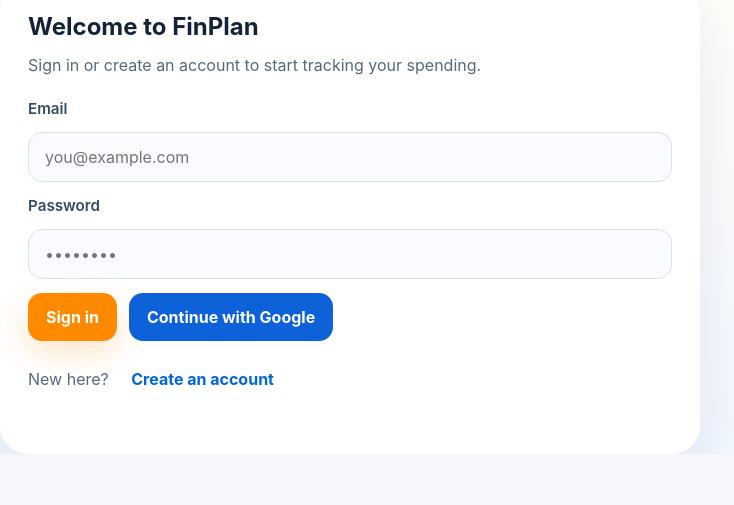
Scenario: AuthPage › shows formatted error messages from firebase codes
This screenshot has width=734, height=505.
Type "a@b.com" into the field labelled "Email".
click(350, 157); type("a@b.com")  # box [28,132,672,182]
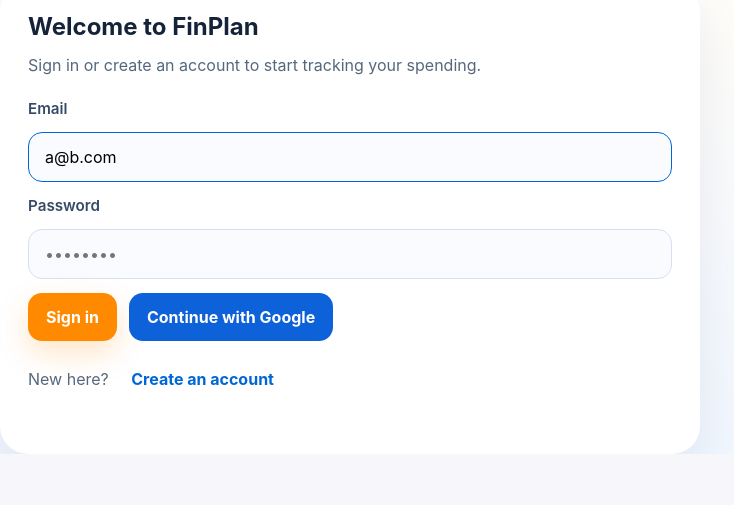
Type "bad" into the password field labelled "Password".
click(350, 254); type("bad")  # box [28,229,672,279]
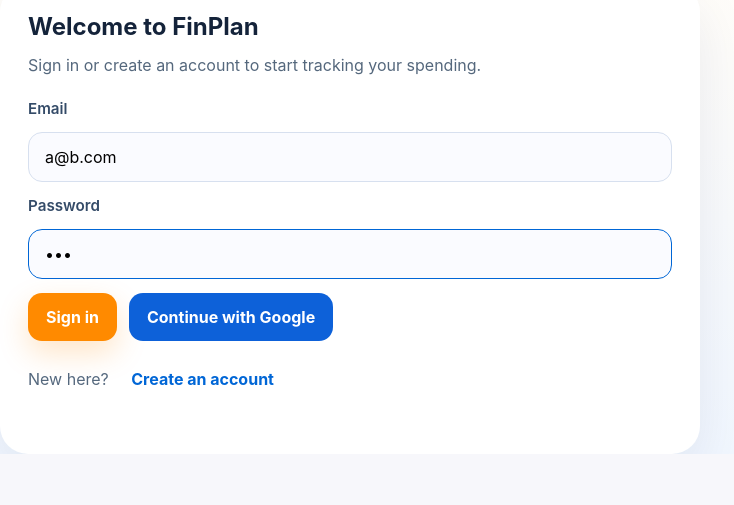
Click the button "Sign in".
click(72, 317)  # box [28,293,117,341]
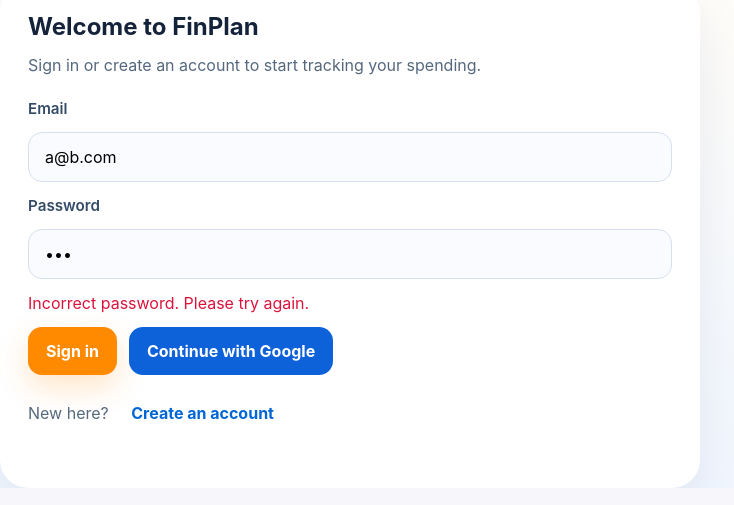
Result: the text "Incorrect password. Please try again." is shown at [28,293,309,313]
